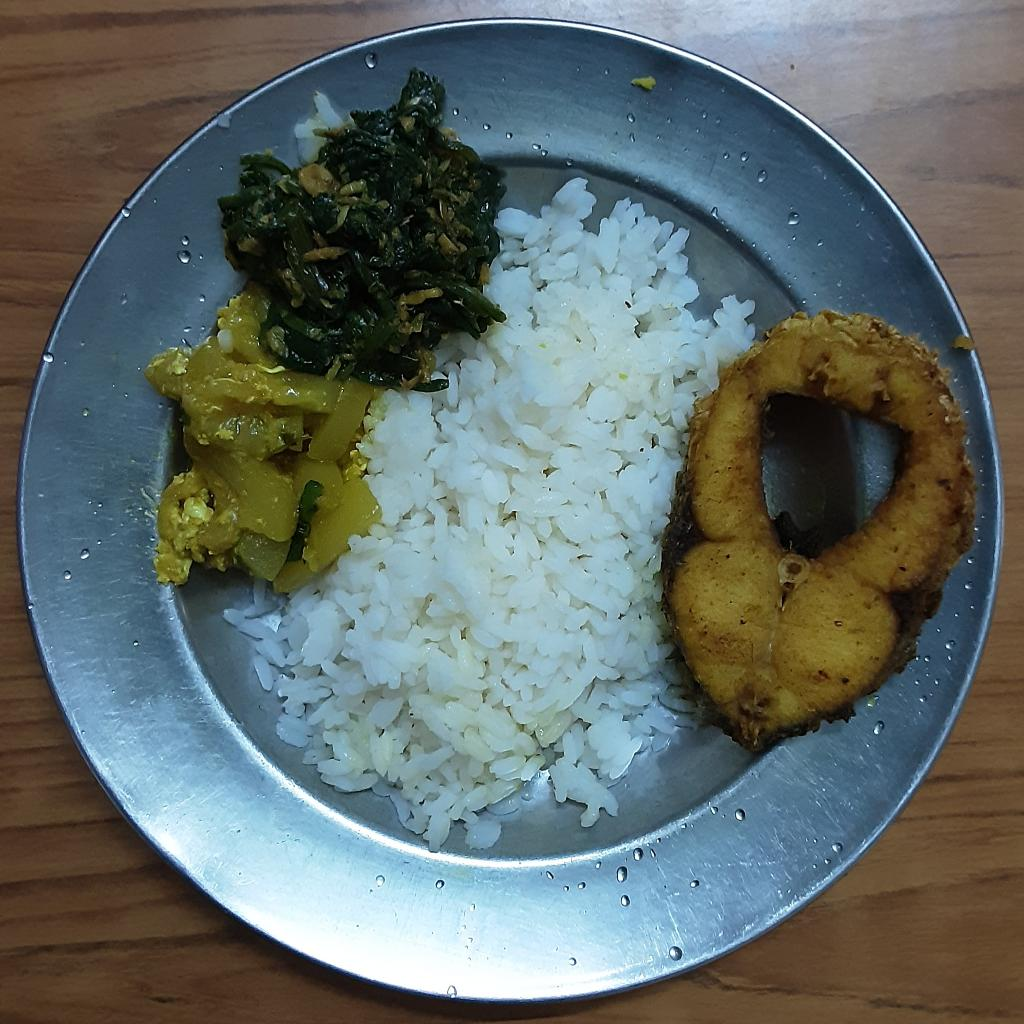lau: (149, 291, 392, 598)
rice: (218, 176, 756, 853), (661, 311, 977, 756)
shak: (218, 65, 508, 389)
